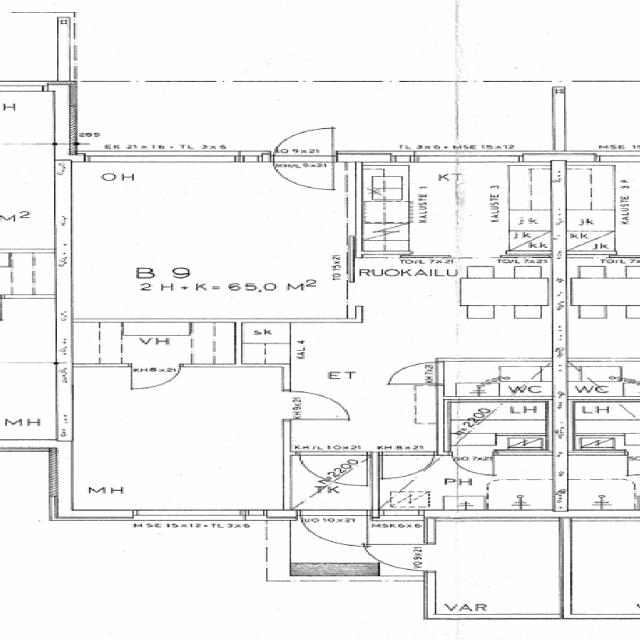door: (300, 510, 367, 552), (300, 452, 367, 487), (274, 151, 333, 190), (274, 123, 333, 162), (283, 391, 352, 420), (367, 545, 436, 571), (382, 452, 433, 479), (132, 364, 180, 390), (391, 363, 444, 384), (453, 450, 494, 475)
